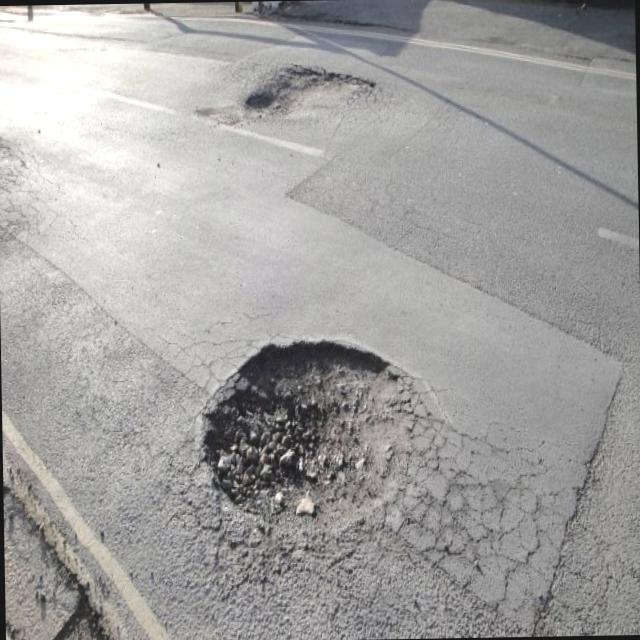bad-road: (199, 338, 416, 538), (244, 59, 376, 123)
